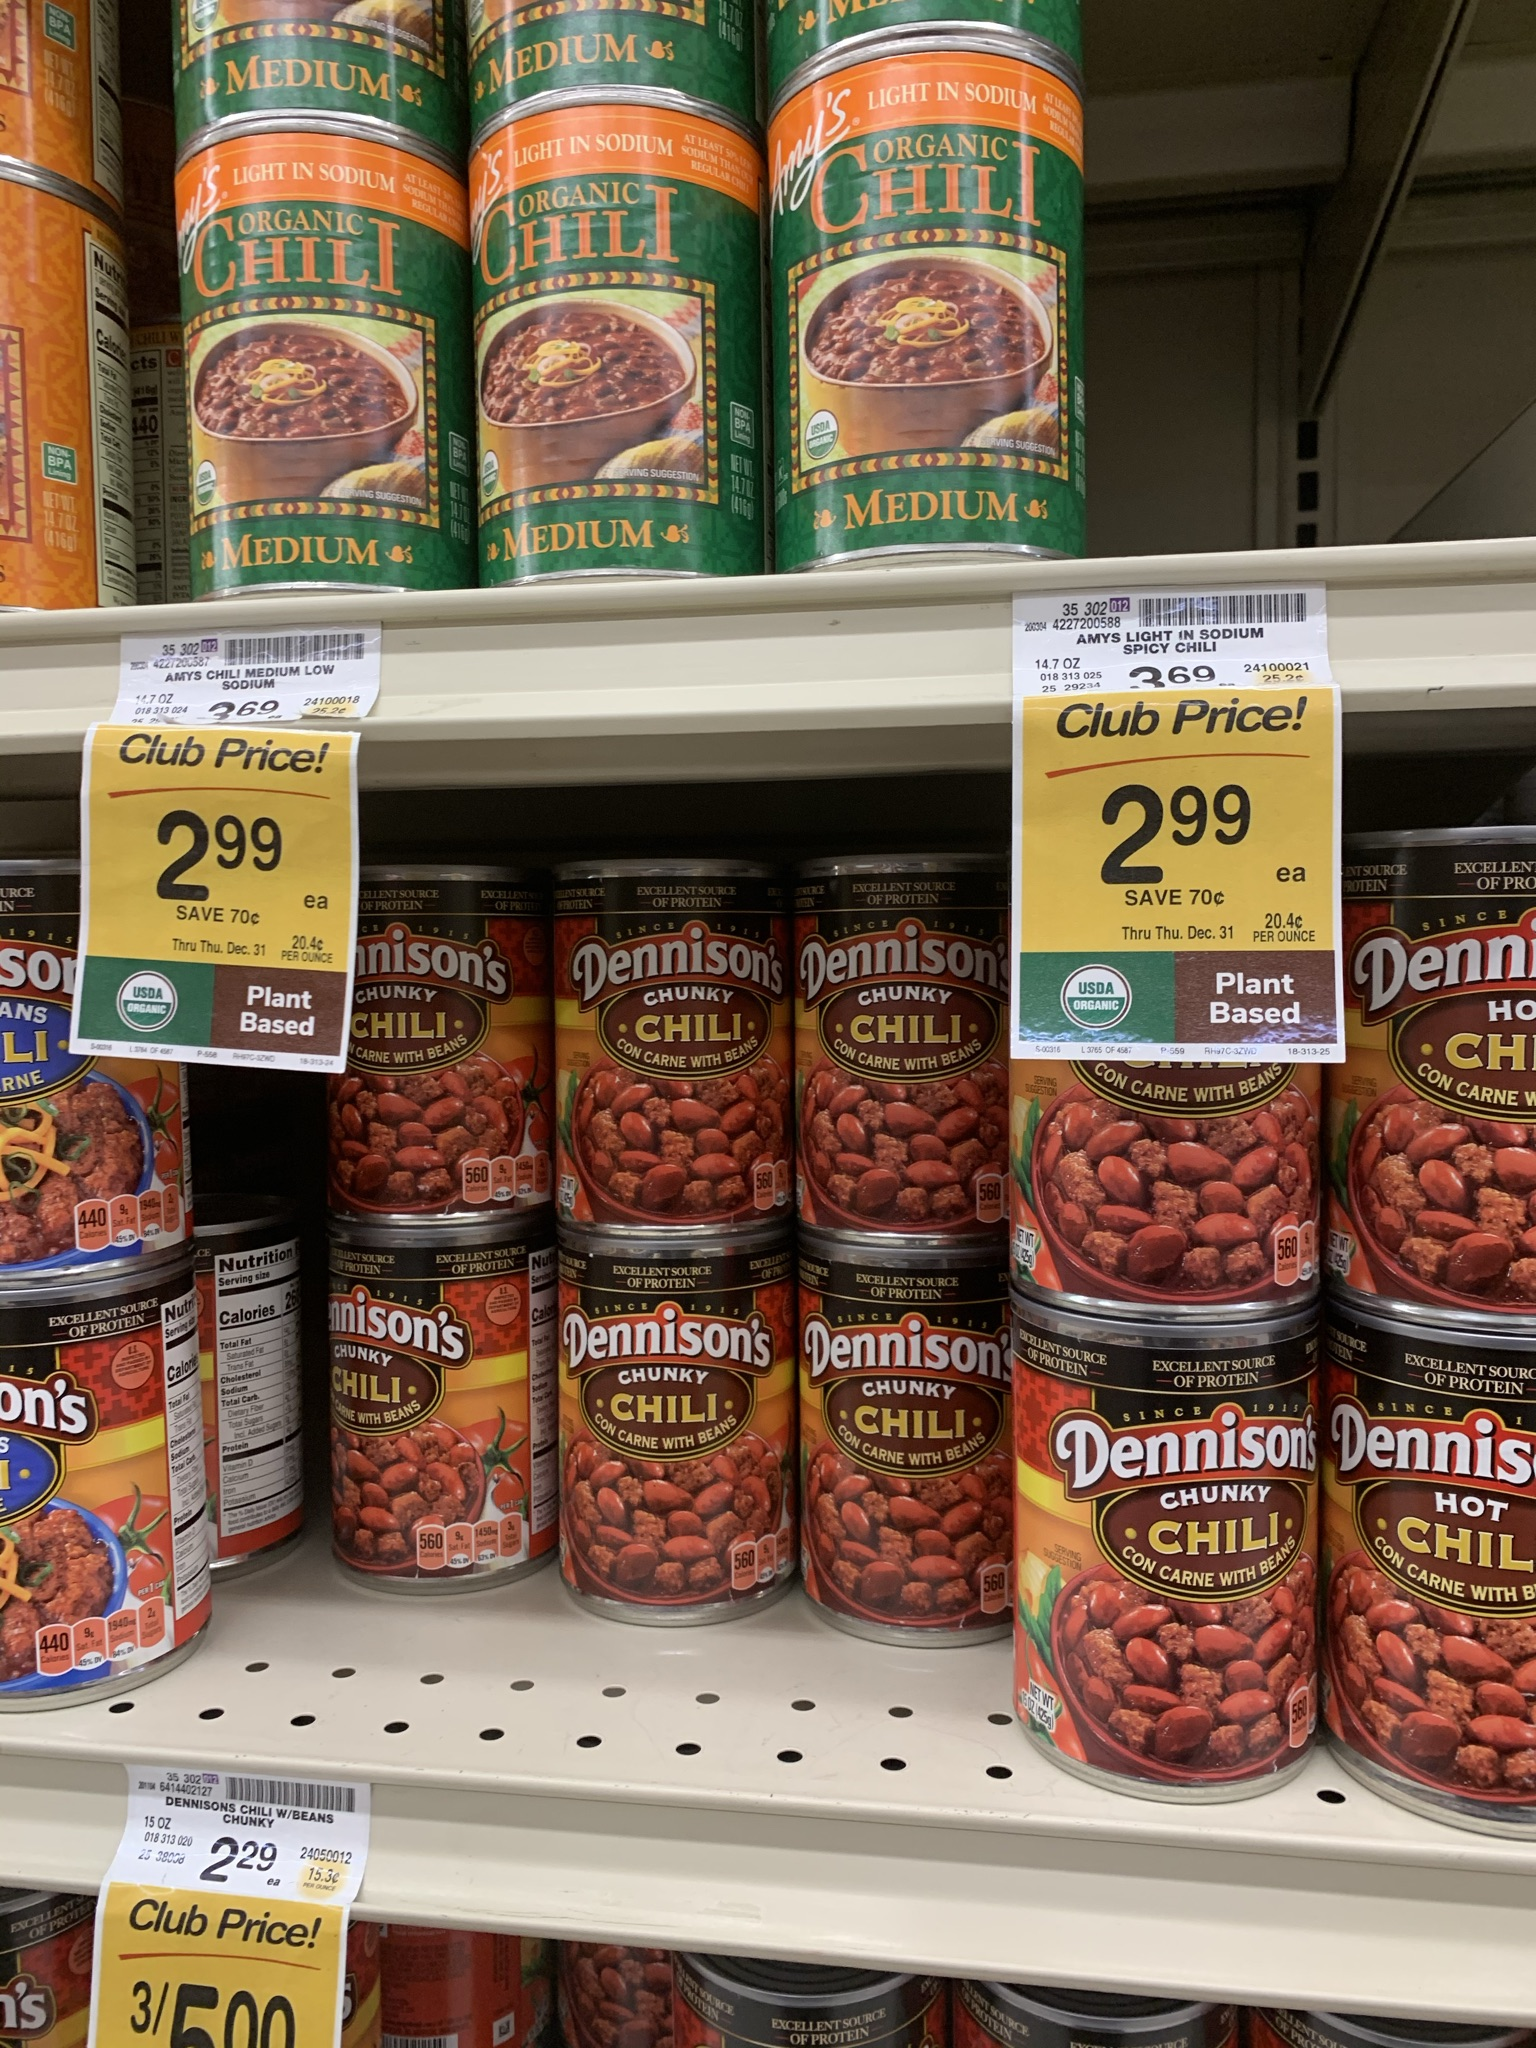can: (760, 48, 1087, 564), (1007, 1324, 1321, 1808), (457, 95, 760, 584), (179, 118, 470, 598), (1326, 1330, 1536, 1837), (553, 1240, 799, 1630), (545, 858, 789, 1235), (800, 1248, 1008, 1651), (323, 1234, 552, 1595), (795, 851, 1005, 1242), (340, 864, 544, 1222)
